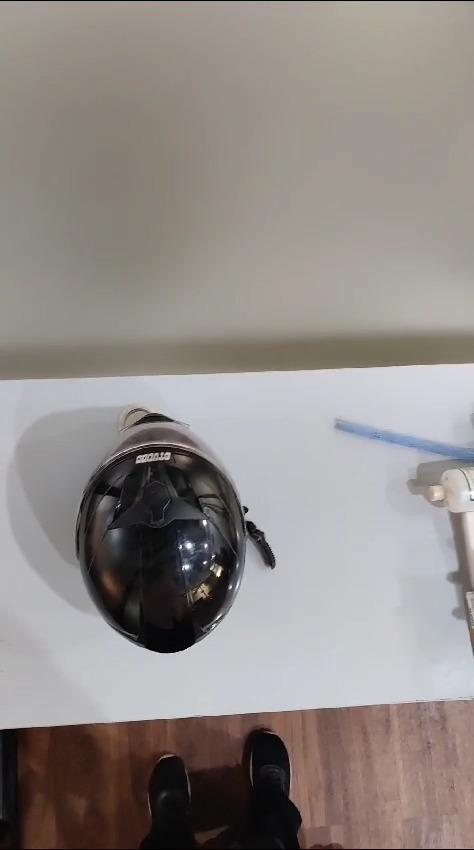Helmet: (76, 409, 274, 652)
